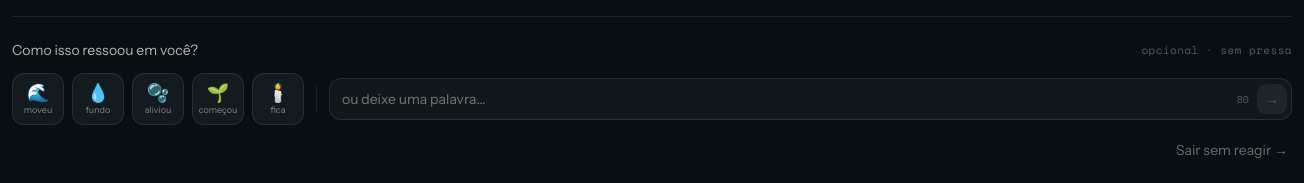
Scenario: SynthesisReactionDock › salva a reação ao clicar em um emoji e mostra a confirmação vinculada
Click the button with aria-label "Me pegou fundo". click: (98, 99)
box: [72,73,124,125]
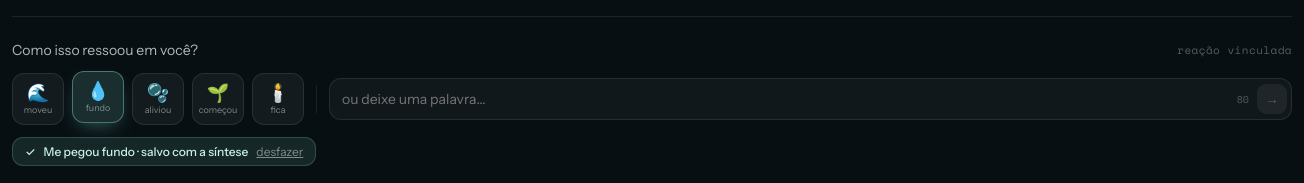
Expected: the message shows "Me pegou fundo · salvo com a síntese", [44,144,248,159]
